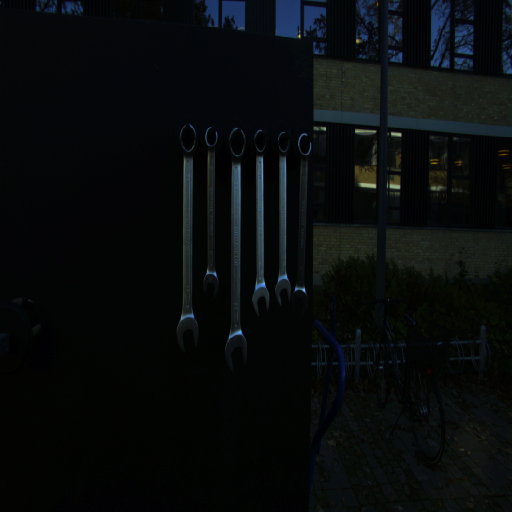bottom: (224, 333, 250, 373), (175, 319, 202, 354), (250, 284, 272, 318), (273, 279, 293, 310), (292, 283, 308, 320), (201, 270, 220, 295)
top: (173, 122, 202, 157), (226, 124, 248, 161), (251, 122, 270, 158), (295, 125, 313, 161), (273, 128, 293, 159), (202, 125, 221, 152)
